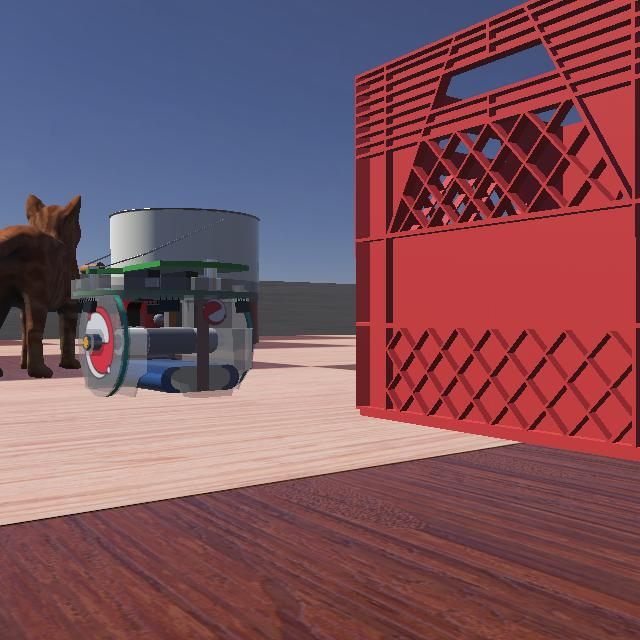cat: (0, 150, 110, 384), (0, 150, 110, 384)
plastic-crate: (347, 1, 639, 486)
